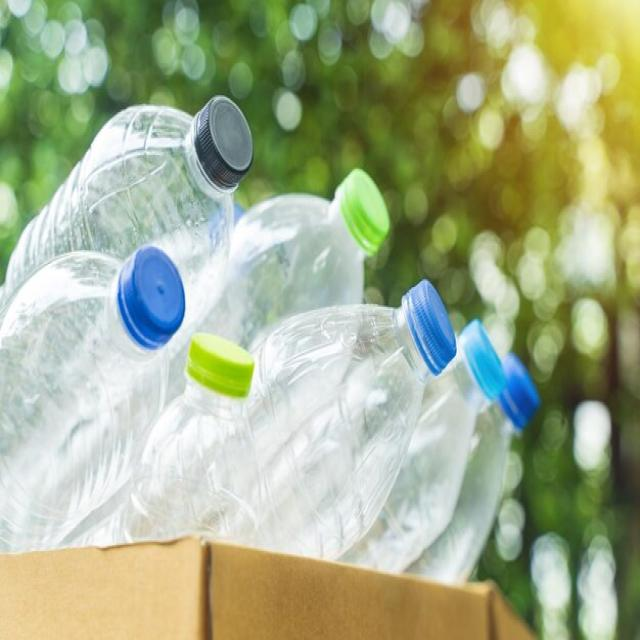plastic_bottle: (183, 189, 581, 533), (16, 81, 264, 340), (2, 244, 195, 567)
